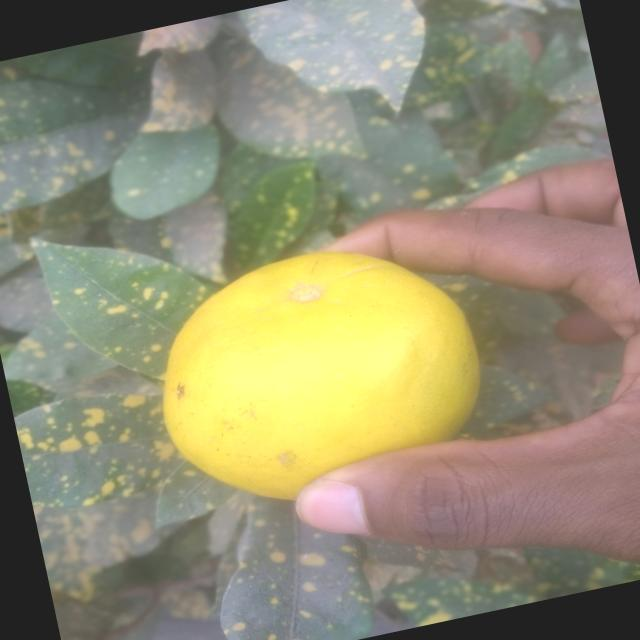Ripe orange: (125, 208, 510, 524)
